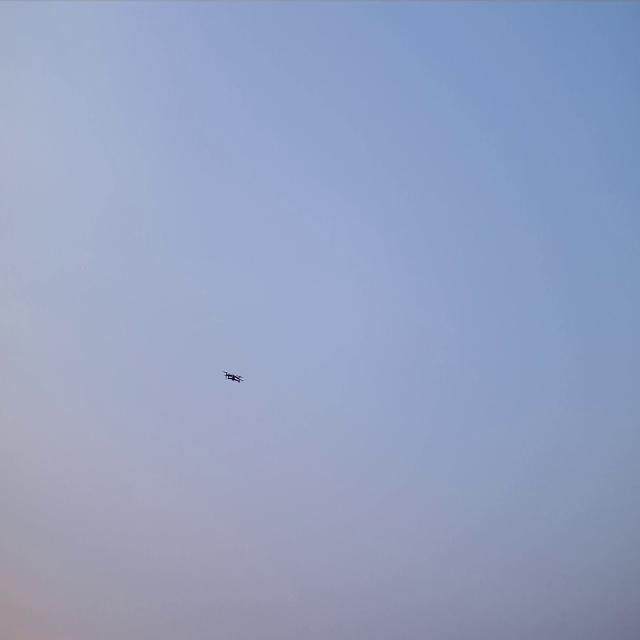UAV: (222, 369, 244, 384)
